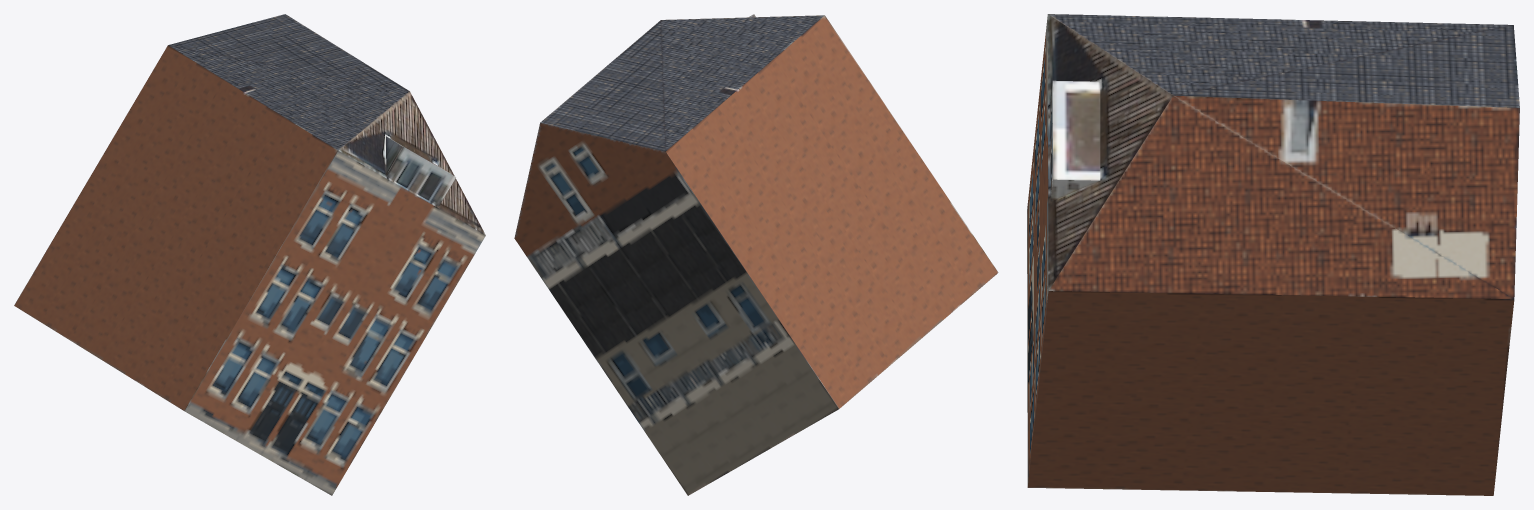
The picture shows the model from 3 angles, left to right: view 1: azimuth 30°, elevation 25°; view 2: azimuth 150°, elevation 25°; view 3: azimuth 270°, elevation 25°; orthographic projection. The views are drawn at different scales.
Parts seen in each view (by area): view 1: BAG_0599100000675868 (×4); view 2: BAG_0599100000675868 (×3); view 3: BAG_0599100000675868 (×5).
Part boxes in pixels (x1=…): BAG_0599100000675868 (×4): x1=14, y1=14, x2=485, y2=495; BAG_0599100000675868 (×3): x1=514, y1=15, x2=998, y2=495; BAG_0599100000675868 (×5): x1=1027, y1=14, x2=1519, y2=495.
Bounding box in the file's own units: 13.32 × 13.94 × 12.51.
1 material, 1 textured.
